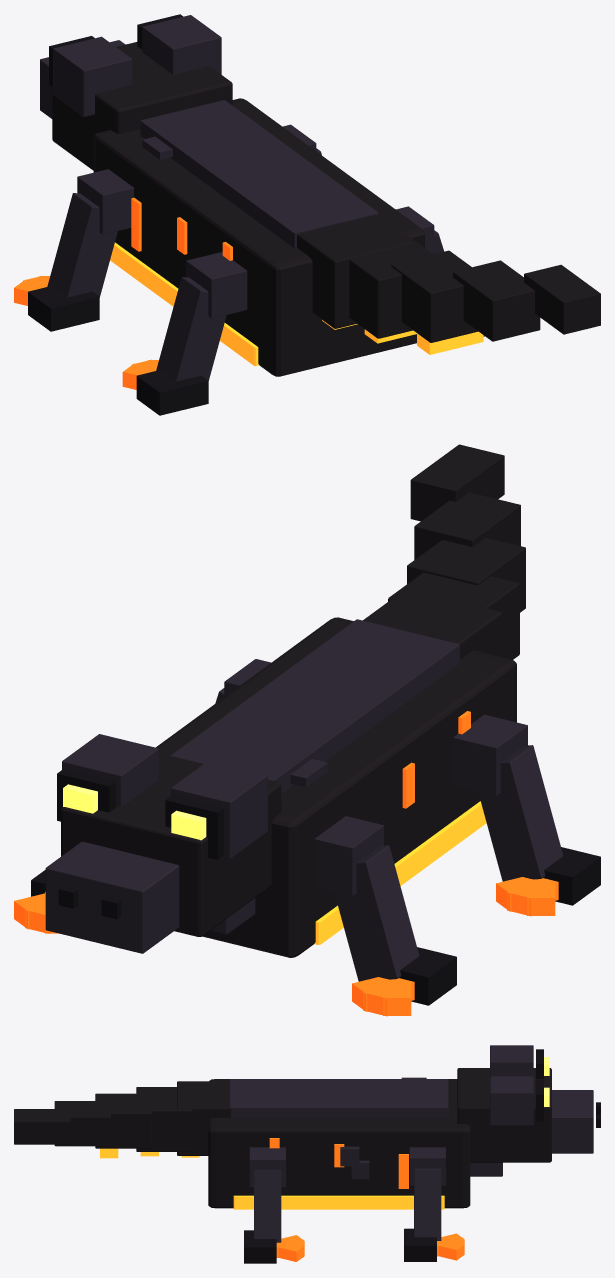
The model's file is lava-gecko.glb.
The picture shows the model from 3 angles, top to bottom: view 1: azimuth 30°, elevation 25°; view 2: azimuth 150°, elevation 25°; view 3: azimuth 270°, elevation 25°; orthographic projection. The views are drawn at different scales.
Parts seen in each view (by area): view 1: body, tail, head, leg.BR, leg.FR, leg.BL; view 2: body, head, tail, leg.BR, leg.FR, leg.FL; view 3: body, head, tail, leg.BL, leg.FL.
Part boxes in pixels (<box>): body: <box>93,98,424,376</box>; tail: <box>297,215,600,354</box>; head: <box>40,14,232,170</box>; leg.BR: <box>122,252,247,415</box>; leg.FR: <box>14,169,133,331</box>; leg.BL: <box>396,206,484,336</box>; body: <box>156,617,516,957</box>; head: <box>45,734,281,953</box>; tail: <box>363,444,525,659</box>; leg.BR: <box>453,714,600,916</box>; leg.FR: <box>314,816,456,1016</box>; leg.FL: <box>14,870,58,933</box>; body: <box>208,1077,502,1209</box>; head: <box>457,1045,600,1162</box>; tail: <box>14,1081,229,1158</box>; leg.BL: <box>244,1147,304,1263</box>; leg.FL: <box>404,1147,464,1261</box>.
Size of the model in its own units: 1.81 by 1 by 3.89.
